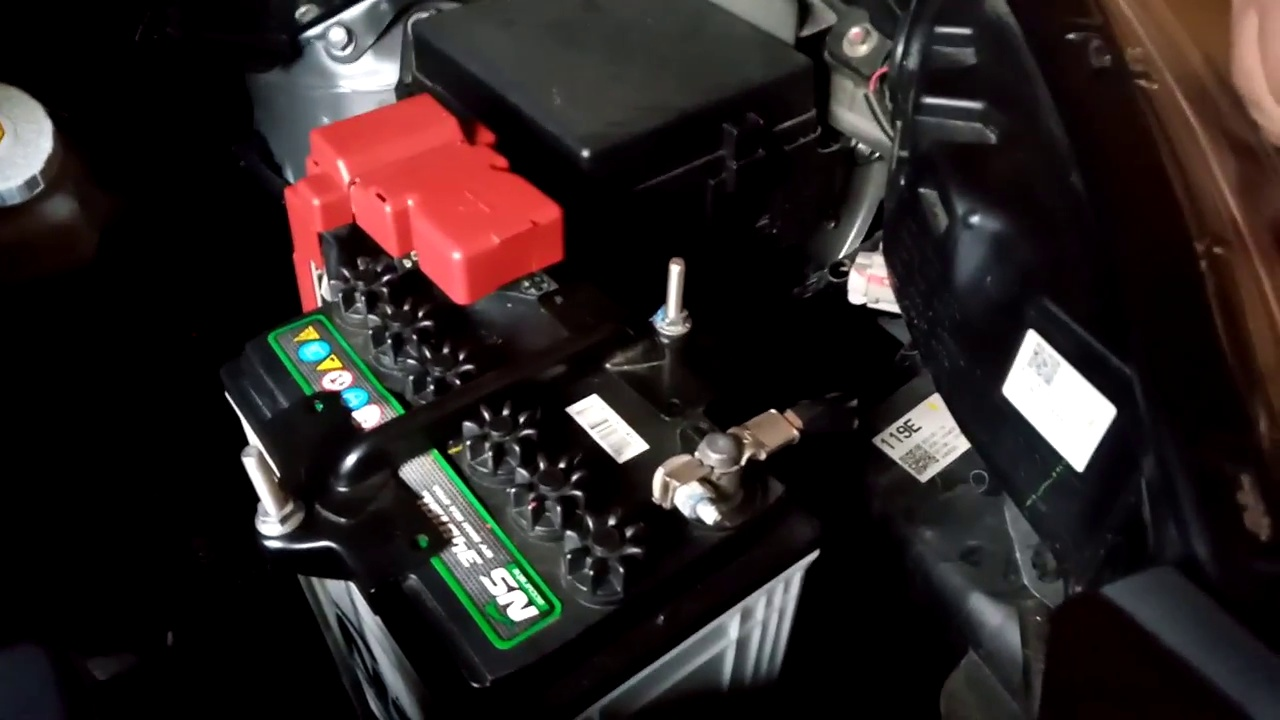battery: (240, 193, 819, 674)
neg_connected: (640, 386, 806, 543)
pos_connected: (291, 115, 576, 319)
